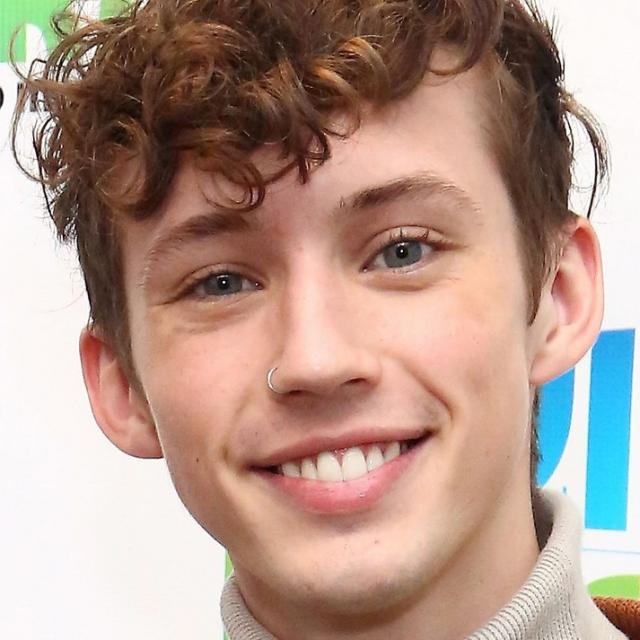Normal: (113, 54, 535, 628)
